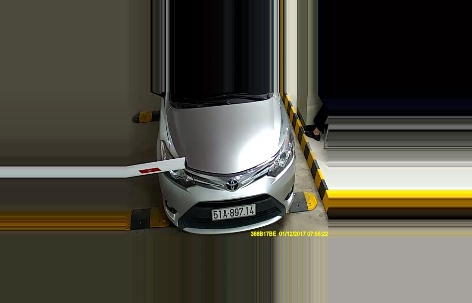plate: (209, 202, 256, 222)
